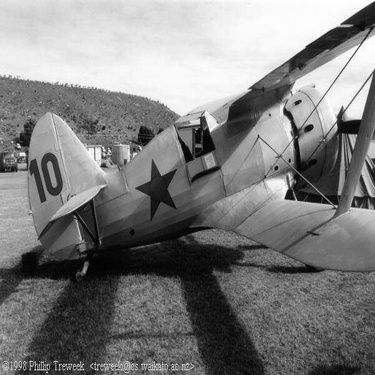airplane: (2, 3, 371, 371)
